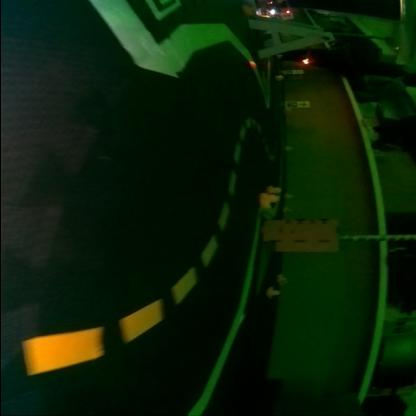Duckie: (260, 193, 278, 207), (268, 286, 280, 296), (267, 185, 281, 193), (284, 192, 291, 198), (284, 146, 291, 152), (278, 274, 285, 280)
Intersection sign: (298, 100, 308, 106)
QR code: (286, 101, 296, 107)
